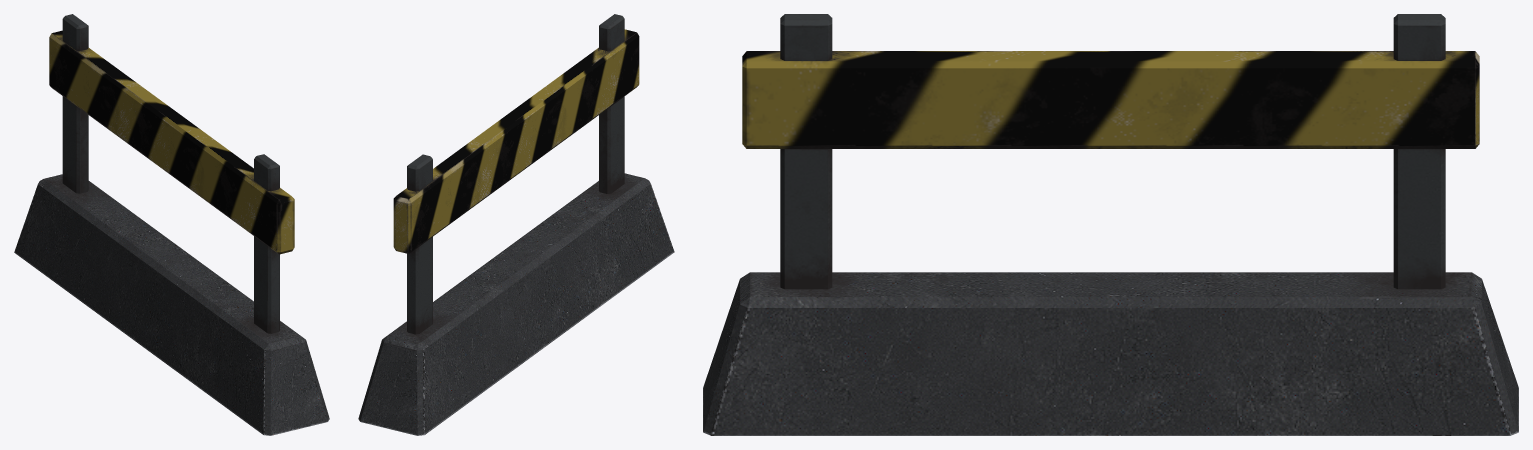
Rendered from Border (1).fbx.
3 views of the same model, side by side, from view 1: azimuth 30°, elevation 25°; view 2: azimuth 150°, elevation 25°; view 3: azimuth 270°, elevation 25° (orthographic). The views are drawn at different scales.
Visible parts, largest first — view 1: Border; view 2: Border; view 3: Border.
Part boxes in pixels (box(x1,y1,x2,y2)): Border: box(14, 14, 329, 435); Border: box(358, 14, 674, 435); Border: box(703, 14, 1518, 435).
Bounding box in the file's own units: 39.71 × 141 × 264.
